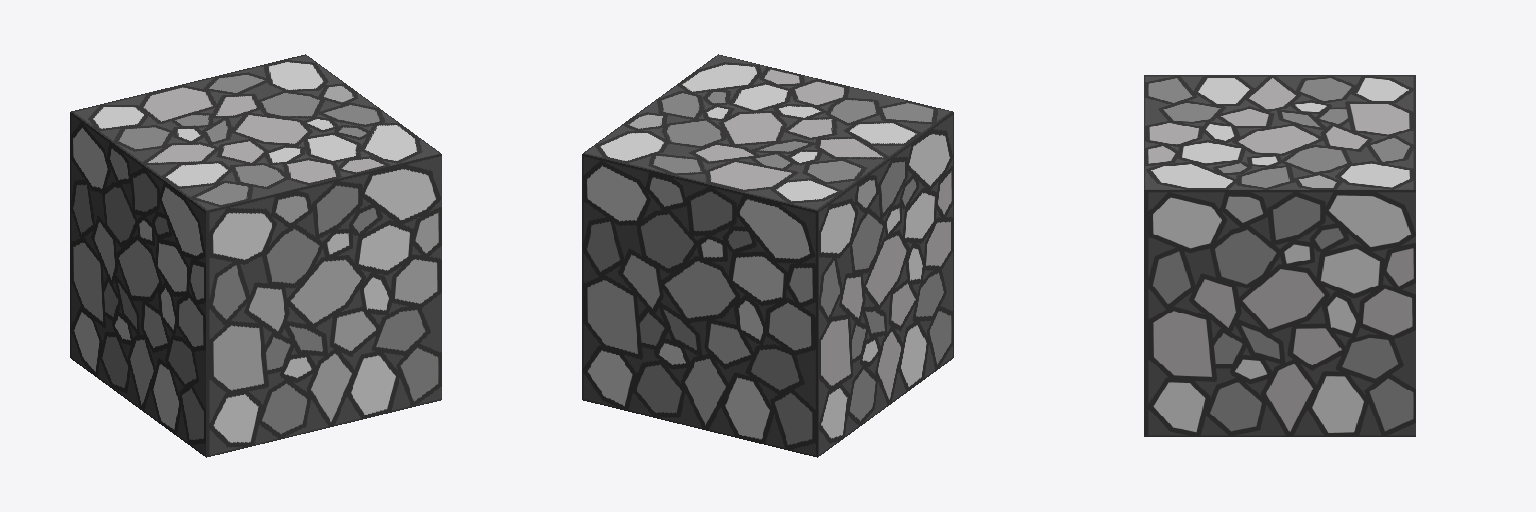
The picture shows the model from 3 angles: view 1: azimuth 30°, elevation 25°; view 2: azimuth 150°, elevation 25°; view 3: azimuth 270°, elevation 25°; orthographic projection.
Parts seen in each view (by area): view 1: Cube; view 2: Cube; view 3: Cube.
Part boxes in pixels (left/top/right/bottom): Cube: left=70, top=54, right=441, bottom=457; Cube: left=582, top=54, right=953, bottom=457; Cube: left=1144, top=75, right=1415, bottom=436.
Bounding box in the file's own units: 1 × 1 × 1.
1 materials, 1 textured.